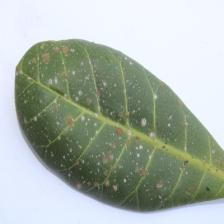red rust: (14, 38, 224, 212)
